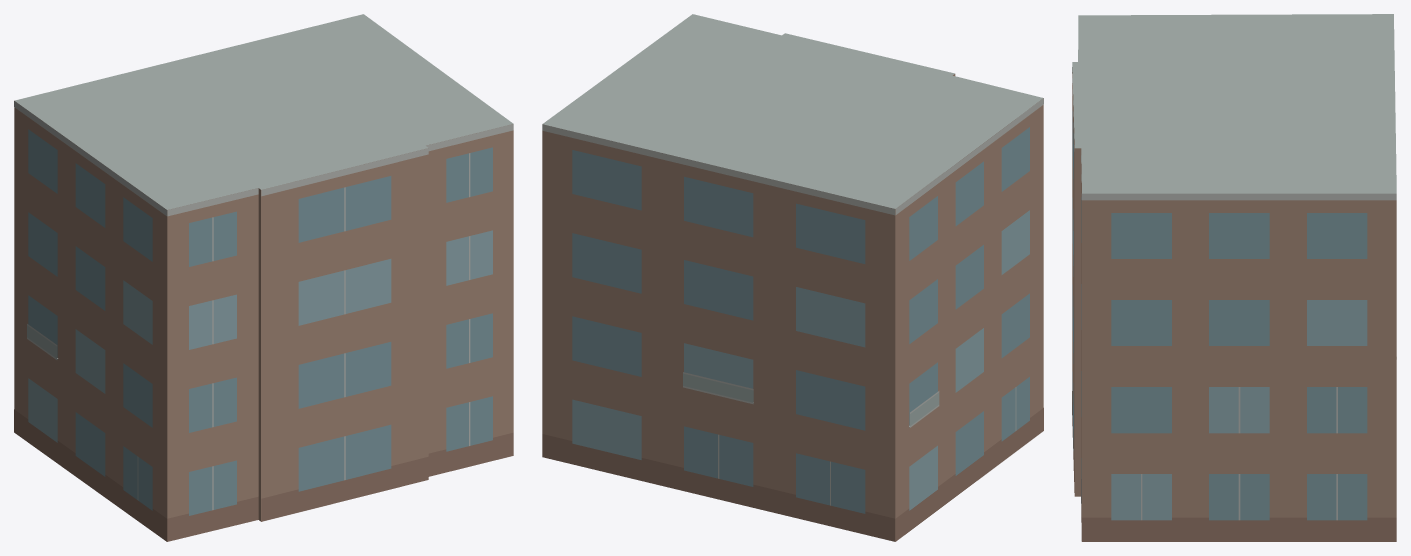
File: survey-upis-32520350.glb
3 renders of one model, left to right at view 1: azimuth 30°, elevation 25°; view 2: azimuth 150°, elevation 25°; view 3: azimuth 270°, elevation 25°, orthographic. The views are drawn at different scales.
Parts seen in each view (by area): view 1: survey-upis-32520350.tmp; view 2: survey-upis-32520350.tmp; view 3: survey-upis-32520350.tmp.
Part boxes in pixels (left/top/right/bottom): survey-upis-32520350.tmp: left=14, top=14, right=513, bottom=541; survey-upis-32520350.tmp: left=542, top=14, right=1043, bottom=541; survey-upis-32520350.tmp: left=1072, top=14, right=1396, bottom=541.
Bounding box in the file's own units: 13.87 × 12.5 × 10.57.
